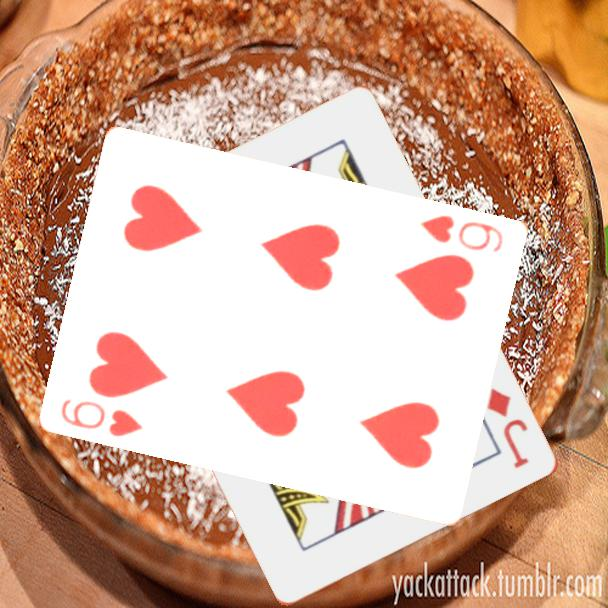d11: (484, 384, 533, 472)
h06: (417, 211, 507, 255), (58, 395, 146, 440)
